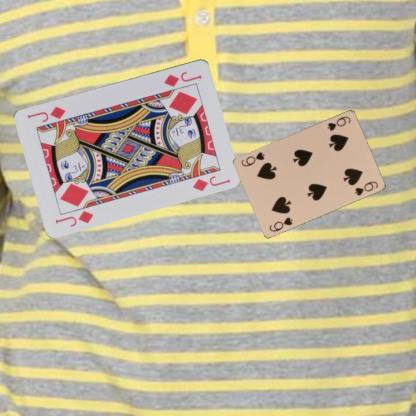6s: (266, 214, 294, 233), (325, 113, 352, 132)
Jd: (53, 207, 95, 228), (162, 68, 204, 88)
